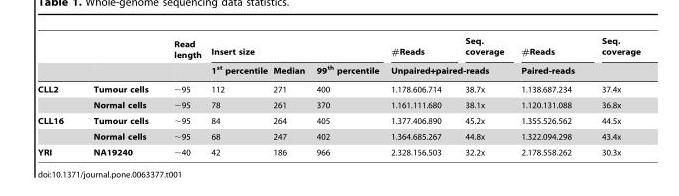table: (37, 36, 639, 157)
table column: (77, 36, 160, 157), (511, 36, 586, 157), (310, 36, 384, 157), (384, 36, 452, 157), (205, 36, 269, 157), (452, 36, 511, 157), (586, 36, 639, 157), (160, 36, 205, 157), (269, 36, 310, 157), (37, 36, 77, 157)
table column header: (37, 36, 639, 79)
table row: (37, 36, 639, 61), (37, 61, 639, 79), (37, 79, 639, 96), (37, 96, 639, 112), (37, 127, 639, 143), (37, 112, 639, 127), (37, 143, 639, 157)
table spanning cell: (205, 36, 384, 61), (511, 61, 639, 79), (384, 61, 511, 79), (160, 36, 205, 79), (37, 79, 77, 112), (37, 112, 77, 143)
